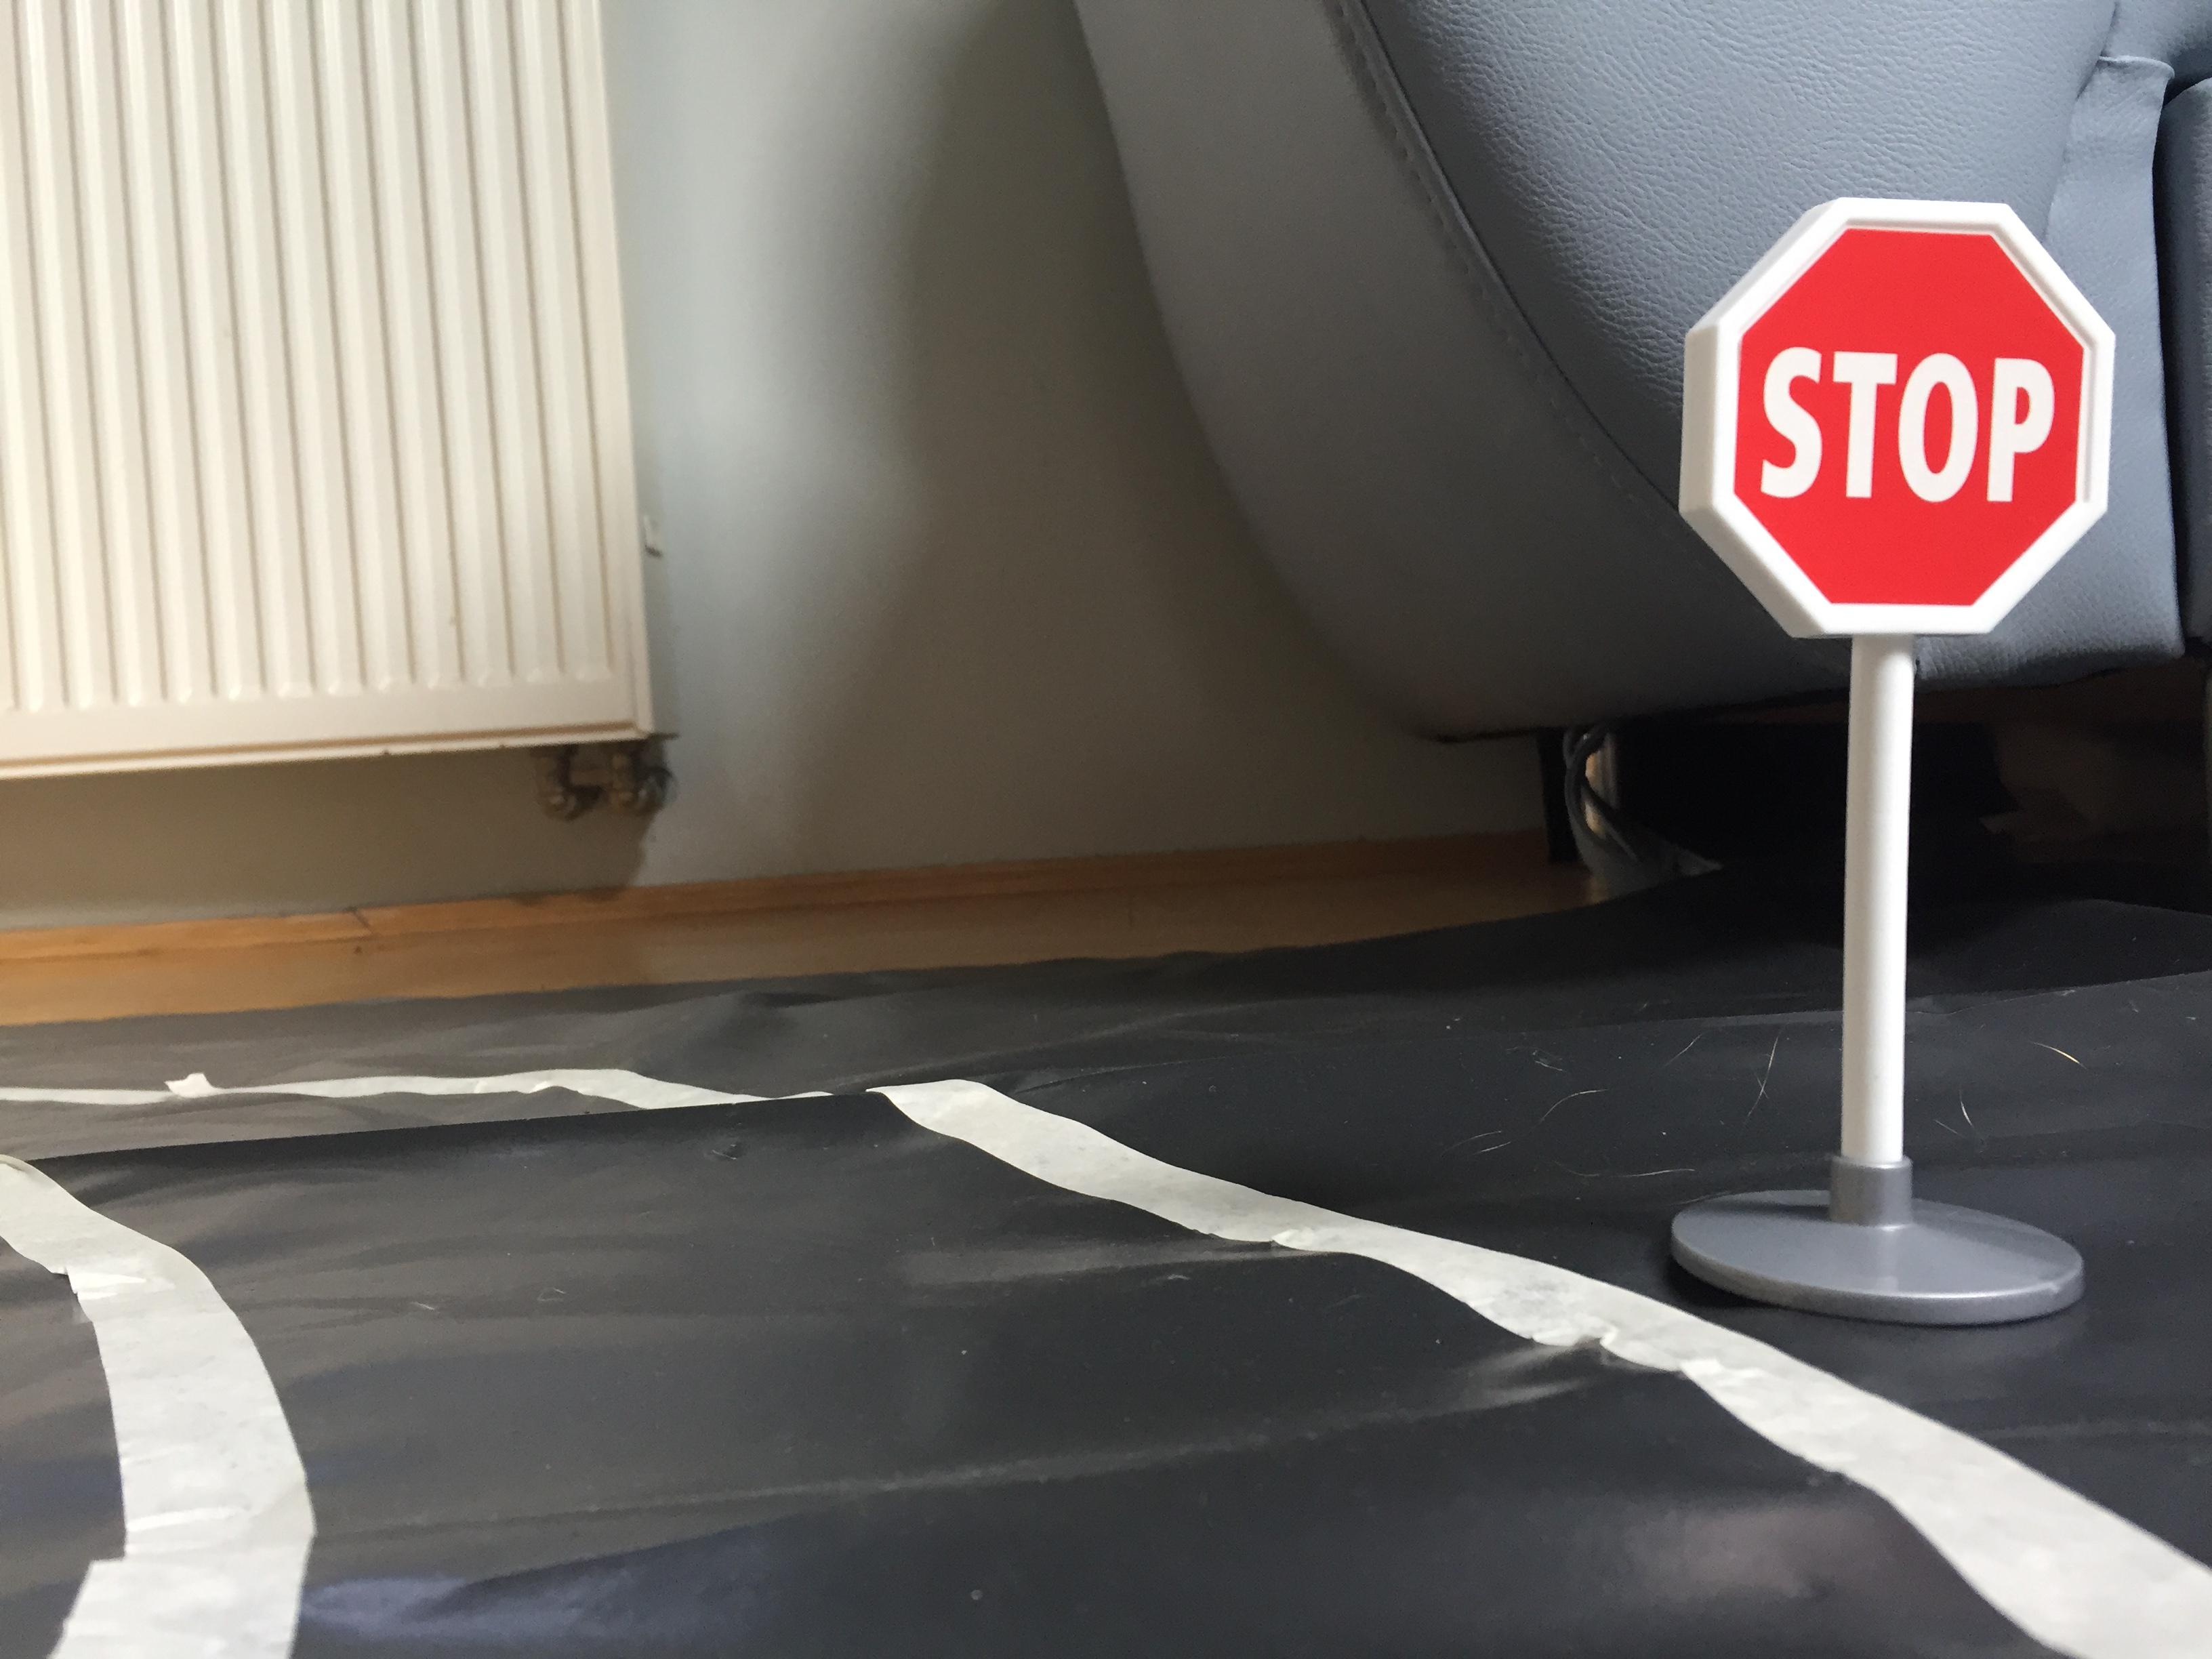stop: (1674, 188, 2127, 648)
